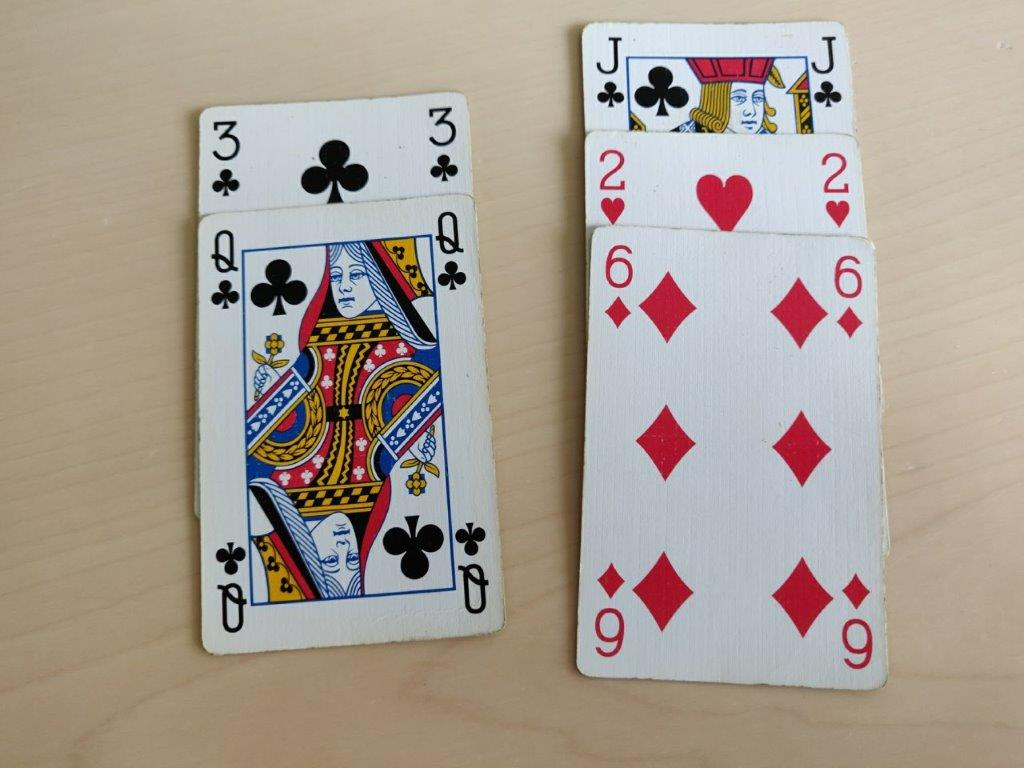2H: (817, 145, 856, 234), (591, 145, 629, 228)
3C: (421, 103, 462, 186), (207, 118, 245, 199)
6D: (827, 247, 869, 350), (600, 241, 636, 331)
JC: (585, 31, 631, 110), (806, 30, 842, 114)
QC: (430, 206, 471, 295), (206, 223, 244, 313)
